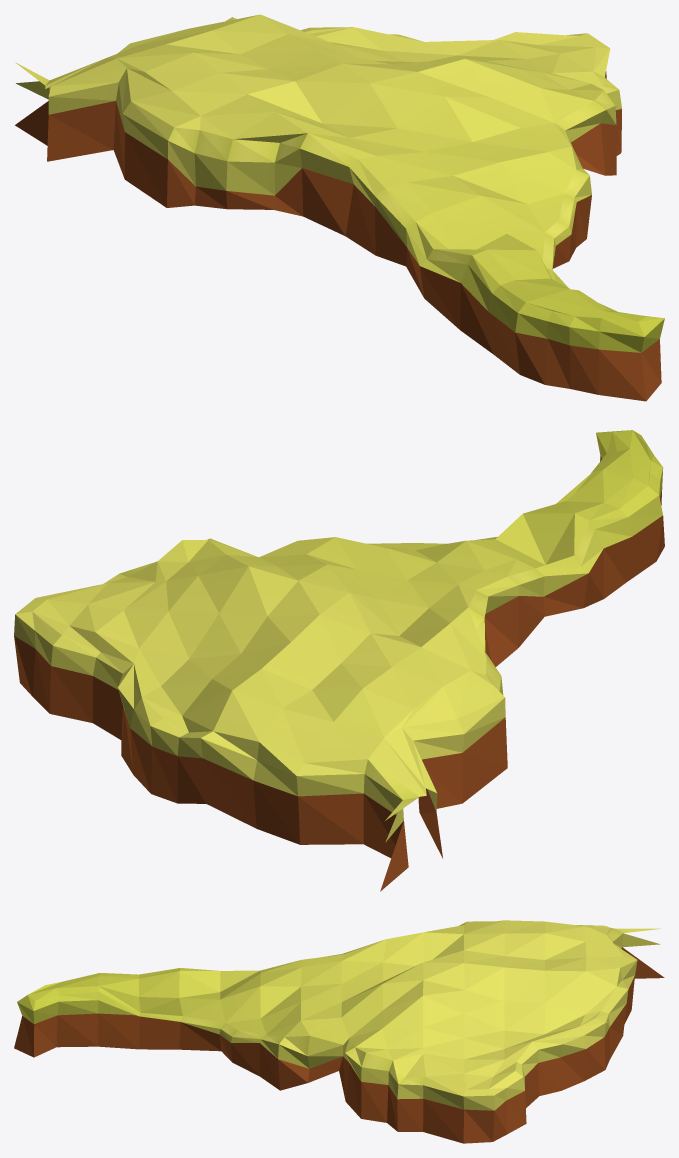
The model's file is southAmerica.glb.
3 renders of one model, top to bottom at view 1: azimuth 30°, elevation 25°; view 2: azimuth 150°, elevation 25°; view 3: azimuth 270°, elevation 25°, orthographic. The views are drawn at different scales.
Visible parts, largest first — view 1: Ground_2_World ap_0.002; view 2: Ground_2_World ap_0.002; view 3: Ground_2_World ap_0.002.
Boxes of the visible parts, x1,y1,x2,y2 form: Ground_2_World ap_0.002: (15,14,664,401); Ground_2_World ap_0.002: (14,430,664,891); Ground_2_World ap_0.002: (14,920,664,1143).
Size of the model in its own units: 2.77 by 0.6569 by 4.46.
Materials: 1 (1 with a texture image).
